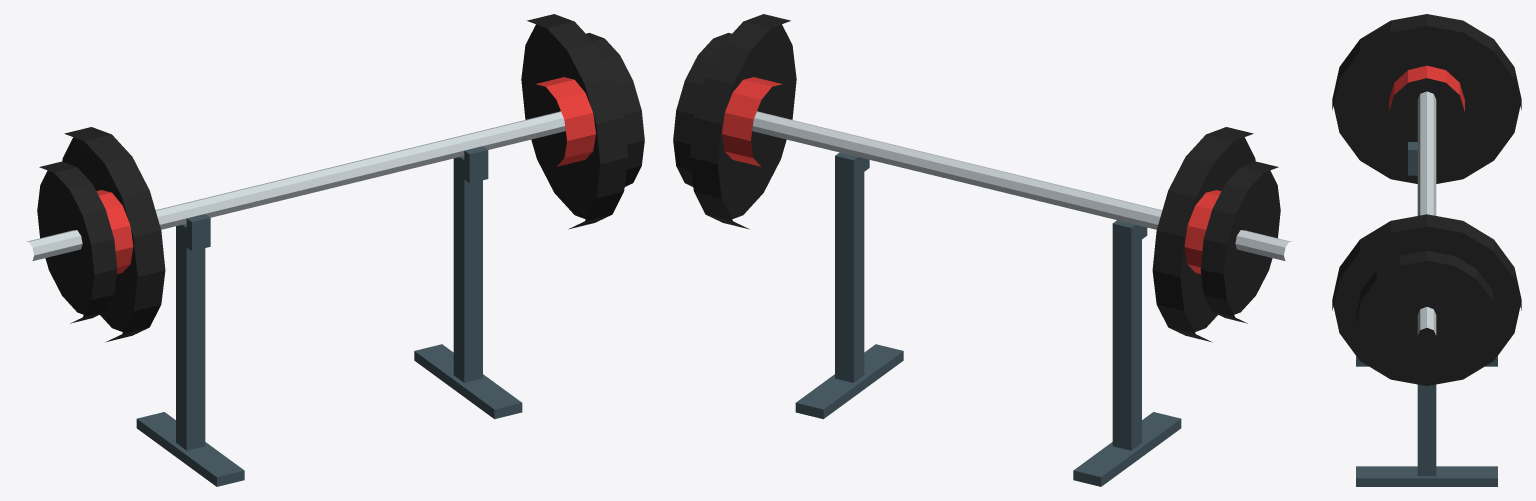
File: skivstang.glb
3 renders of one model, left to right at view 1: azimuth 30°, elevation 25°; view 2: azimuth 150°, elevation 25°; view 3: azimuth 270°, elevation 25°, orthographic. The views are drawn at different scales.
Visible parts, largest first — view 1: skivstang; view 2: skivstang; view 3: skivstang.
Part boxes in pixels (x1,y1,x2,y2): skivstang: (26, 14, 644, 486); skivstang: (673, 14, 1291, 486); skivstang: (1332, 14, 1521, 486).
Size of the model in its own units: 1.3 by 0.7001 by 0.4.
